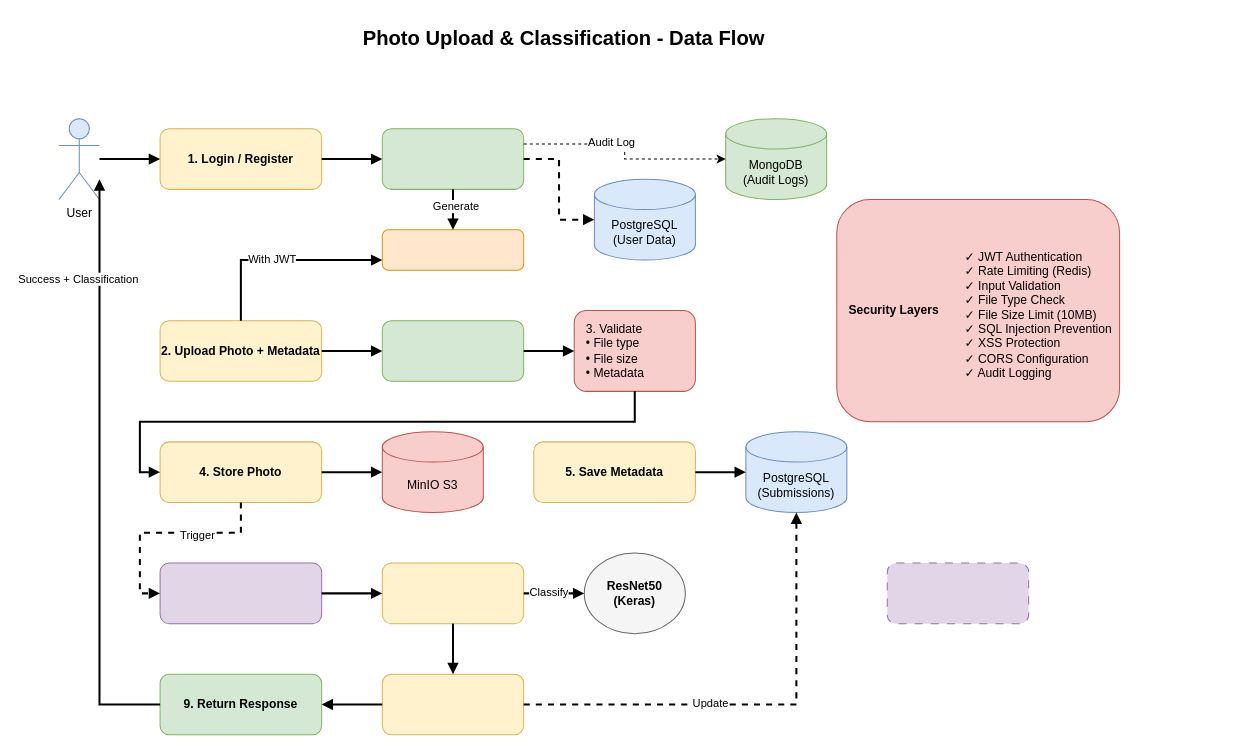
The diagram is 1235 pixels wide and 752 high, and some of its shapes have lost their labels. Here are the shapes that lost their labels. From the top down, the box of each, then its label:
(381, 128, 524, 189): Auth Service
(381, 229, 524, 270): JWT Token
(381, 320, 524, 381): Application Service
(159, 562, 322, 624): 6. Background Task (Async)
(381, 562, 524, 624): 7. ML Classification
(886, 562, 1029, 624): Async Processing (Non-blocking)
(381, 673, 524, 735): 8. Update Result
